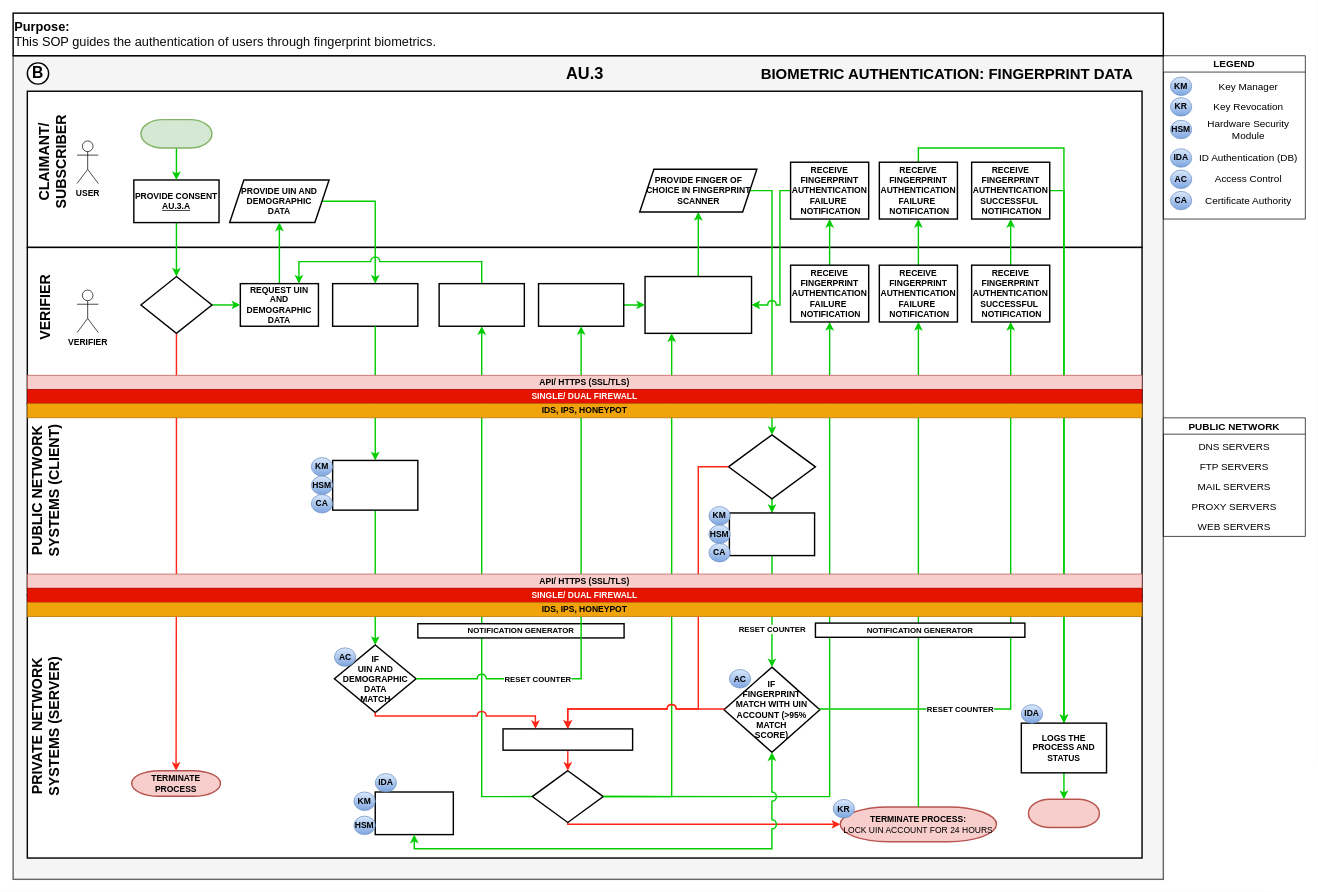
Some shapes in this 1318 by 892 pixel diagram are drawn without their labels. The shapes that lost their labels are listed below. From the top down, each one's centre as x and y in pixels, then its label:
[176,133]: START (OFFLINE)
[176,304]: IF CONSENT PROVIDED
[375,305]: VERIFY UIN AND DEMOGRAPHIC DATA
[481,305]: RECEIVE VERIFICATION FAILURE STATUS
[580,305]: RECEIVE VERIFICATION SUCCESSFUL STATUS
[698,304]: REQUEST FINGERPRINT OF CHOICE IN THE FINGERPRINT SCANNER
[375,484]: MASK & ENCRYPT UIN AND DEMOGRAPHIC DATA FOR AUTHENTICATION
[771,466]: IF FINGERPRINT SCANNING SUCCESS
[771,534]: ENCRYPT FINGERPRINT SCAN IMAGE FOR AUTHENTICATION
[567,739]: EXCEPTION AND ERROR HANDLING (COUNTER)
[414,813]: DID DATABASE: UIN ACCOUNT
[567,796]: IF RETRY COUNT <=3
[1063,813]: END
